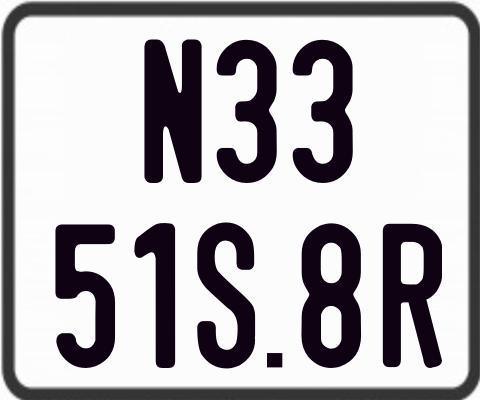1: (131, 220, 173, 368)
3: (215, 39, 279, 183), (292, 37, 352, 183)
5: (54, 224, 120, 368)
8: (299, 220, 362, 371)
N: (143, 39, 204, 187)
R: (380, 222, 443, 368)
S: (195, 221, 258, 369)
